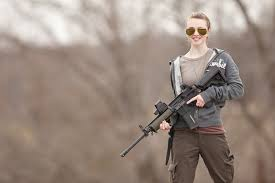Gun: (132, 84, 210, 145)
